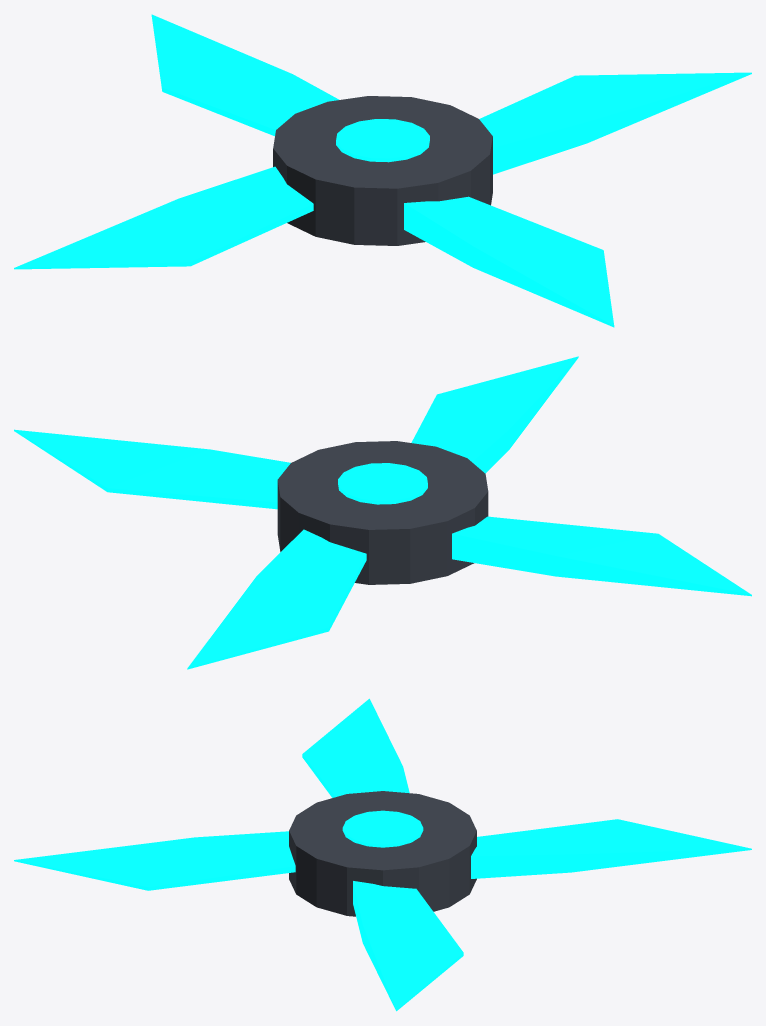
File: weapon_shuriken_razor.glb
3 views of the same model, one above another, from view 1: azimuth 30°, elevation 25°; view 2: azimuth 150°, elevation 25°; view 3: azimuth 270°, elevation 25° (orthographic). The views are drawn at different scales.
Parts seen in each view (by area): view 1: WeaponShurikenRazor; view 2: WeaponShurikenRazor; view 3: WeaponShurikenRazor.
Boxes of the visible parts, x1,y1,x2,y2 form: WeaponShurikenRazor: [14, 14, 751, 327]; WeaponShurikenRazor: [14, 356, 751, 669]; WeaponShurikenRazor: [14, 698, 751, 1011].
Bounding box in the file's own units: 1.1 × 0.09 × 1.1.
